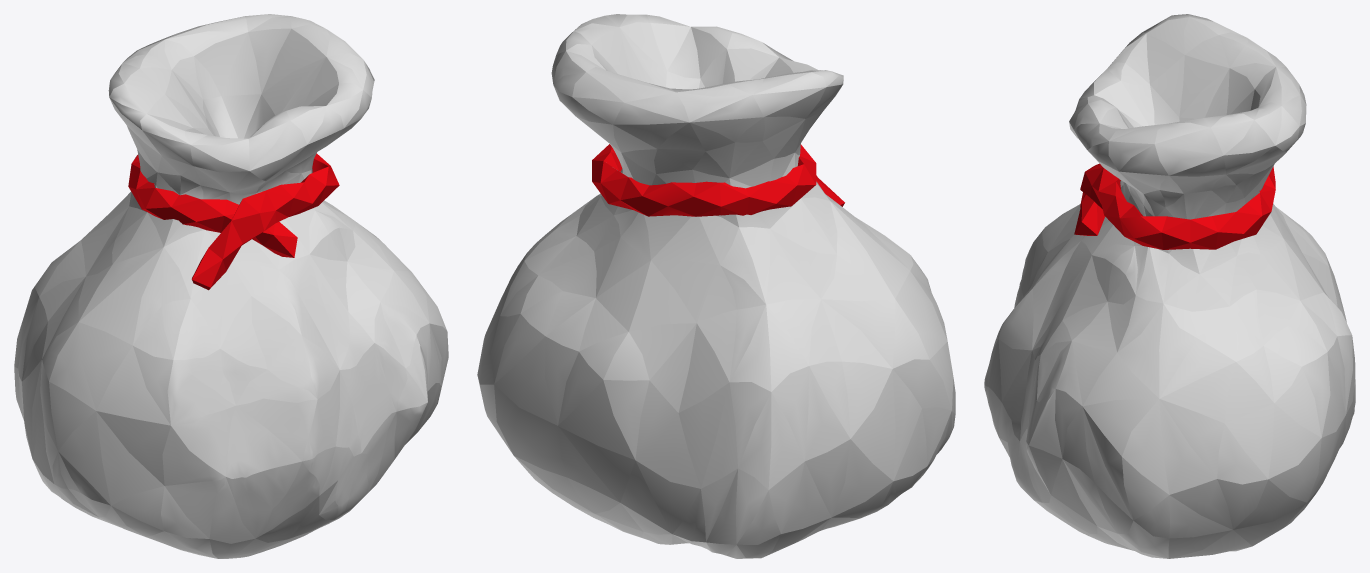
File: Lootbag.fbx
The picture shows the model from 3 angles, left to right: view 1: azimuth 30°, elevation 25°; view 2: azimuth 150°, elevation 25°; view 3: azimuth 270°, elevation 25°; orthographic projection. The views are drawn at different scales.
Parts seen in each view (by area): view 1: Lootbag, LootbagString; view 2: Lootbag, LootbagString; view 3: Lootbag, LootbagString.
Part boxes in pixels (x1,y1,x2,y2): Lootbag: (14, 14, 448, 558); LootbagString: (128, 153, 339, 290); Lootbag: (477, 14, 955, 558); LootbagString: (592, 144, 844, 216); Lootbag: (984, 14, 1355, 558); LootbagString: (1074, 163, 1275, 249).
Size of the model in its own units: 23.3 by 25.93 by 18.73.
